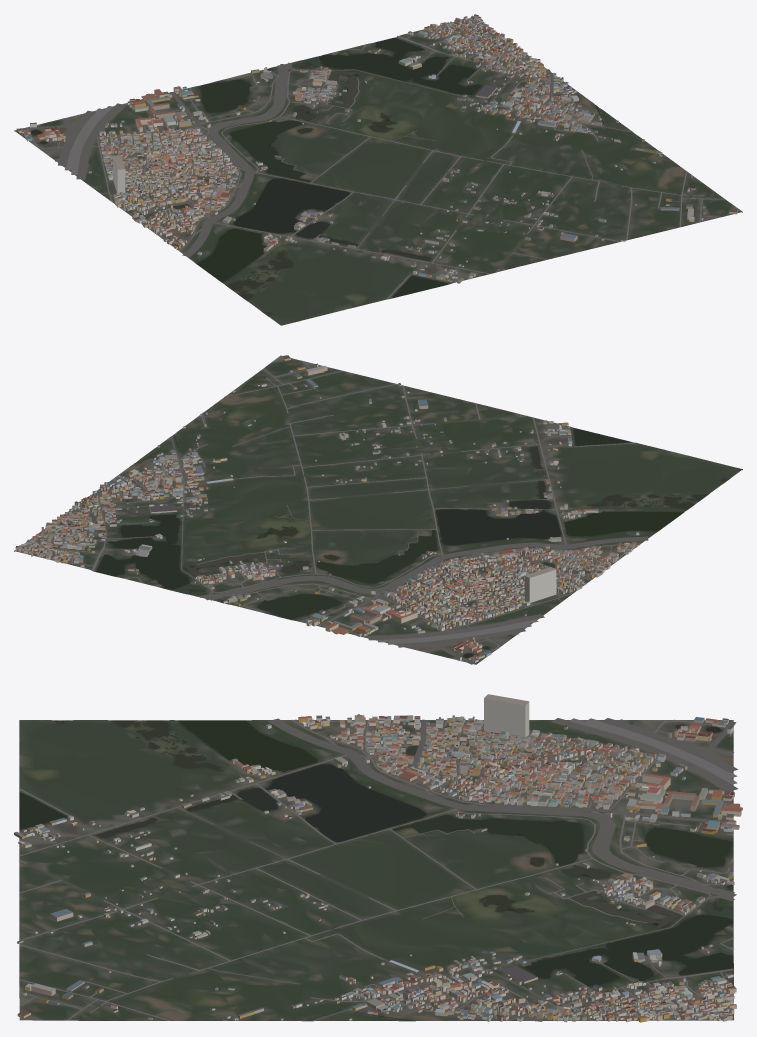
3 views of the same model, one above another, from view 1: azimuth 30°, elevation 25°; view 2: azimuth 150°, elevation 25°; view 3: azimuth 270°, elevation 25° (orthographic). The views are drawn at different scales.
Parts seen in each view (by area): view 1: ground, buildings, water, roads; view 2: ground, buildings, water, roads; view 3: ground, buildings, water, roads.
Part boxes in pixels (bbox=[...]): ground: bbox=[14, 18, 742, 325]; buildings: bbox=[18, 14, 737, 283]; water: bbox=[31, 37, 635, 315]; roads: bbox=[16, 22, 724, 299]; ground: bbox=[14, 355, 742, 664]; buildings: bbox=[15, 355, 639, 662]; water: bbox=[96, 428, 728, 657]; roads: bbox=[17, 360, 648, 664]; ground: bbox=[19, 720, 733, 1021]; buildings: bbox=[14, 694, 742, 1022]; water: bbox=[19, 720, 733, 1021]; roads: bbox=[19, 718, 738, 1021].
Size of the model in its own units: 1418 by 77.03 by 1431.
